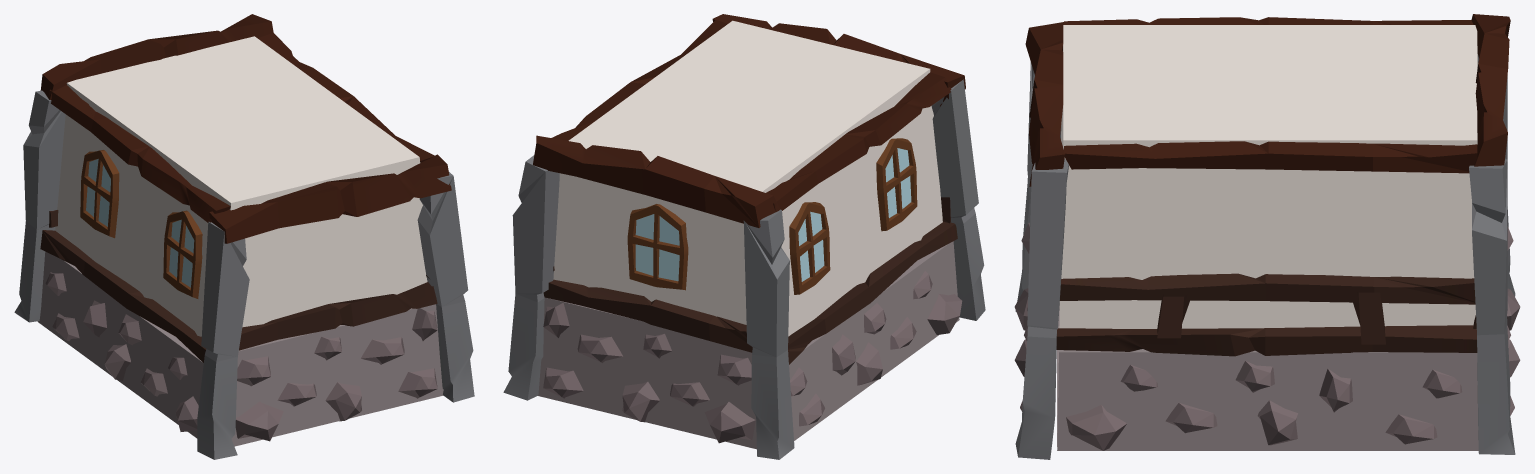
Rendered from SM_L_Modular_Homebase_2.fbx.
3 views of the same model, side by side, from view 1: azimuth 30°, elevation 25°; view 2: azimuth 150°, elevation 25°; view 3: azimuth 270°, elevation 25° (orthographic). The views are drawn at different scales.
Visible parts, largest first — view 1: SM_Modular_home2; view 2: SM_Modular_home2; view 3: SM_Modular_home2.
Boxes of the visible parts, bbox=[...] form: SM_Modular_home2: bbox=[14, 14, 474, 459]; SM_Modular_home2: bbox=[503, 14, 985, 459]; SM_Modular_home2: bbox=[1014, 14, 1520, 459].
Size of the model in its own units: 363 by 326 by 470.
